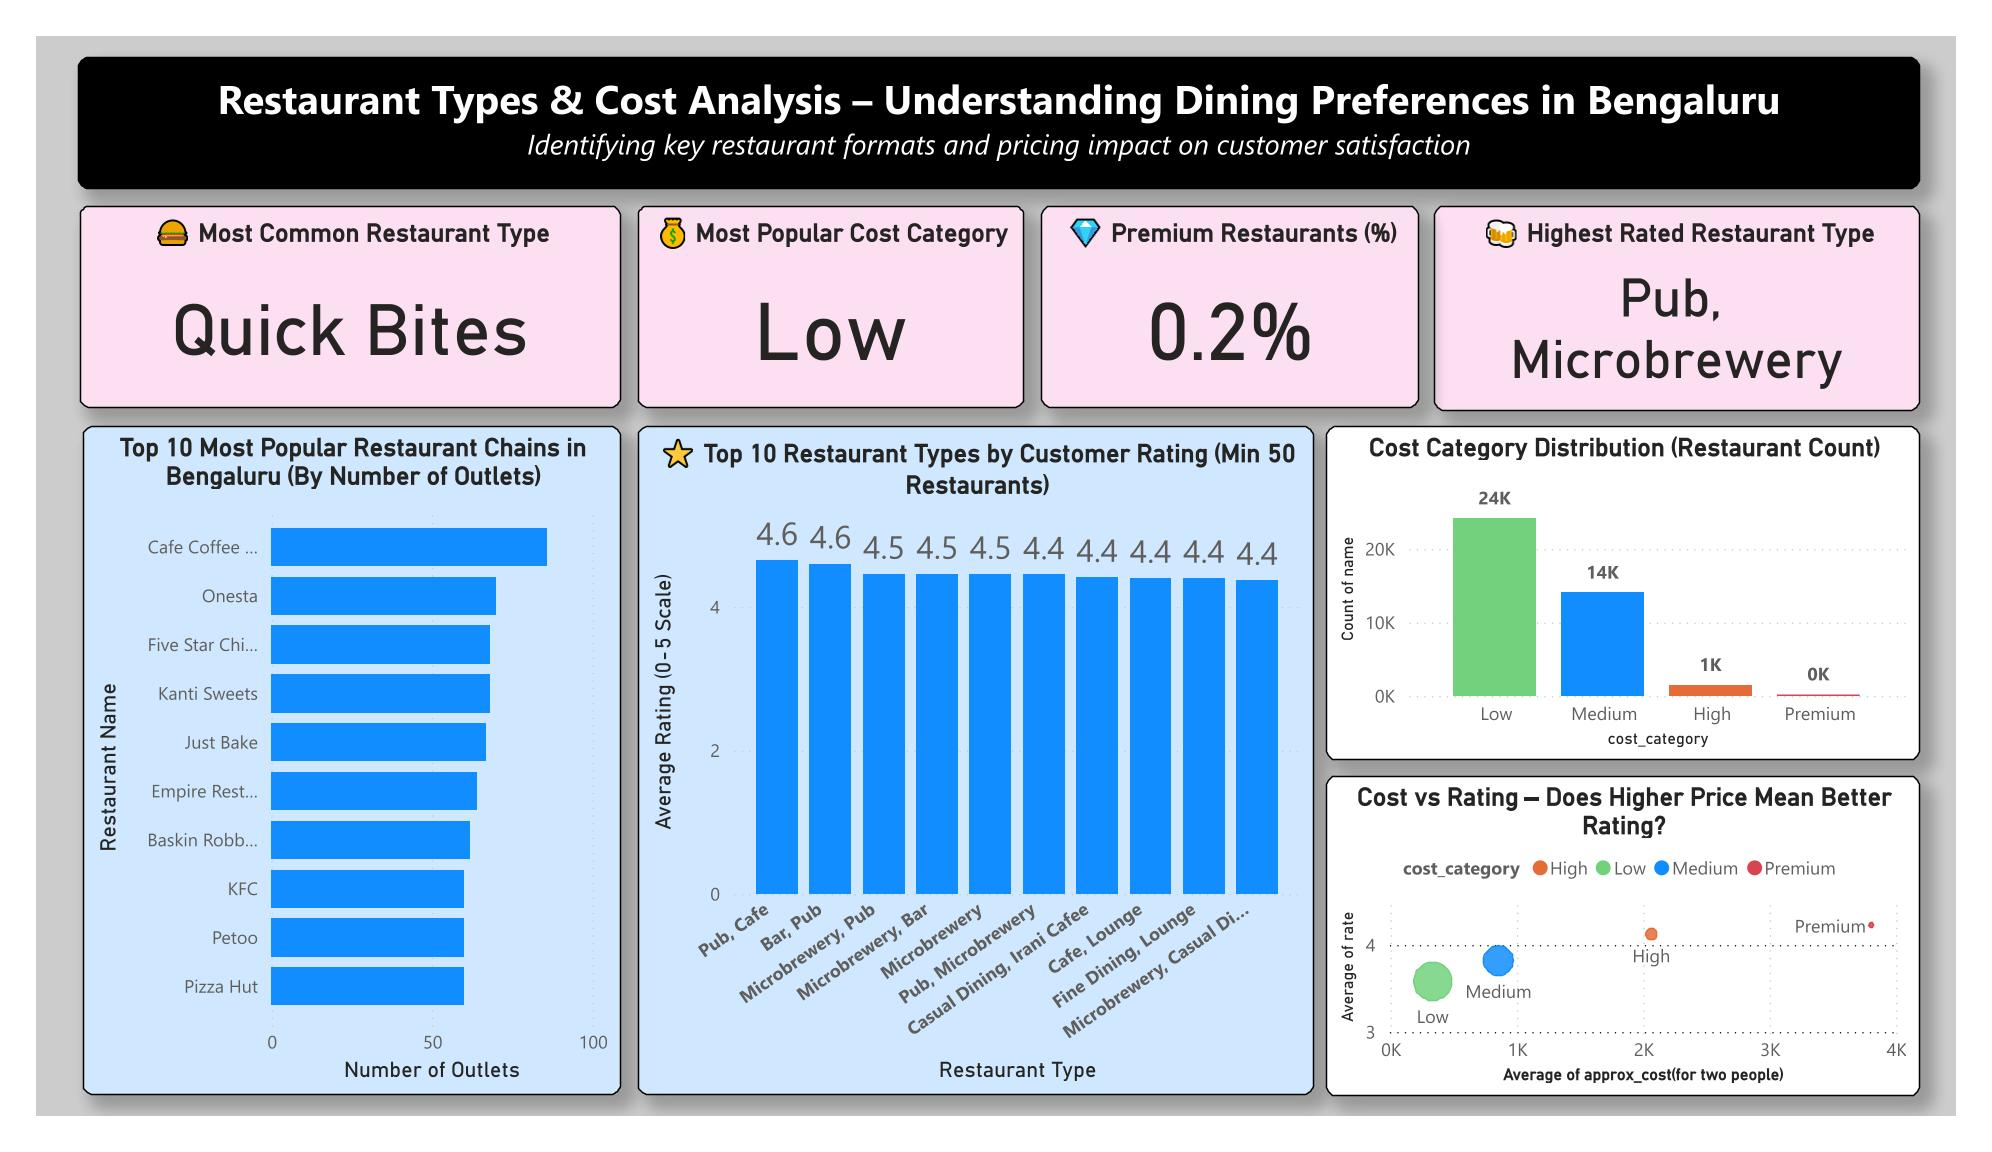

The dashboard page shown, as its layout file describes it:
{"tool":"powerbi","page":{"name":"Restaurant Types & Cost Analysis","canvas":[1280,720],"ordinal":3},"visuals":[{"type":"textbox","box":[28.3,14.1,1227.5,87.8],"z":0},{"type":"card","title":"🍔 Most Common Restaurant Type","fields":{"Values":["03_zomato_clean.Most Common Restaurant Type"]},"box":[28.9,112.9,361.4,135.3],"z":1000},{"type":"card","title":"🍻 Highest Rated Restaurant Type","fields":{"Values":["03_zomato_clean.Highest Rated Restaurant Type"]},"box":[931.7,113.1,324,137.3],"z":2000},{"type":"card","title":"💰 Most Popular Cost Category","fields":{"Values":["03_zomato_clean.Most Popular Cost Category"]},"box":[401.1,113.4,258.3,134.4],"z":3000},{"type":"card","title":"💎 Premium Restaurants (%)","fields":{"Values":["03_zomato_clean.Premium Restaurants %"]},"box":[669.9,113.4,252,134.4],"z":4000},{"type":"clusteredBarChart","title":"Top 10 Most Popular Restaurant Chains in Bengaluru (By Number of Outlets)","fields":{"Y":["CountNonNull(03_zomato_clean.rest_type)"],"Category":["03_zomato_clean.name"]},"box":[30.9,259.8,359.2,446.6],"z":5000},{"type":"clusteredColumnChart","title":"⭐ Top 10 Restaurant Types by Customer Rating (Min 50 Restaurants)","fields":{"Category":["03_zomato_clean.rest_type"],"Y":["Avg(03_zomato_clean.rate)"]},"box":[401.2,259.8,451,446.6],"z":6000},{"type":"clusteredColumnChart","title":"Cost Category Distribution (Restaurant Count)","fields":{"Category":["03_zomato_clean.cost_category"],"Y":["CountNonNull(03_zomato_clean.name)"]},"box":[860,259.8,395.7,223.3],"z":7000},{"type":"scatterChart","title":"Cost vs Rating – Does Higher Price Mean Better Rating?","fields":{"X":["Avg(03_zomato_clean.approx_cost(for two people))"],"Y":["Avg(03_zomato_clean.rate)"],"Size":["CountNonNull(03_zomato_clean.name)"],"Series":["03_zomato_clean.cost_category"]},"box":[860,493,395.7,214.4],"z":8000}]}

Visuals, with their boxes in screenshot pixels (x1, y1, x2, y2), scaled from the page's 1280x720 canvas onto the 1992x1152 screenshot:
textbox: <region>44, 23, 1954, 163</region>
"🍔 Most Common Restaurant Type" card: <region>45, 181, 607, 397</region>
"🍻 Highest Rated Restaurant Type" card: <region>1450, 181, 1954, 401</region>
"💰 Most Popular Cost Category" card: <region>624, 181, 1026, 396</region>
"💎 Premium Restaurants (%)" card: <region>1043, 181, 1435, 396</region>
"Top 10 Most Popular Restaurant Chains in Bengaluru (By Number of Outlets)" clusteredBarChart: <region>48, 416, 607, 1130</region>
"⭐ Top 10 Restaurant Types by Customer Rating (Min 50 Restaurants)" clusteredColumnChart: <region>624, 416, 1326, 1130</region>
"Cost Category Distribution (Restaurant Count)" clusteredColumnChart: <region>1338, 416, 1954, 773</region>
"Cost vs Rating – Does Higher Price Mean Better Rating?" scatterChart: <region>1338, 789, 1954, 1132</region>
